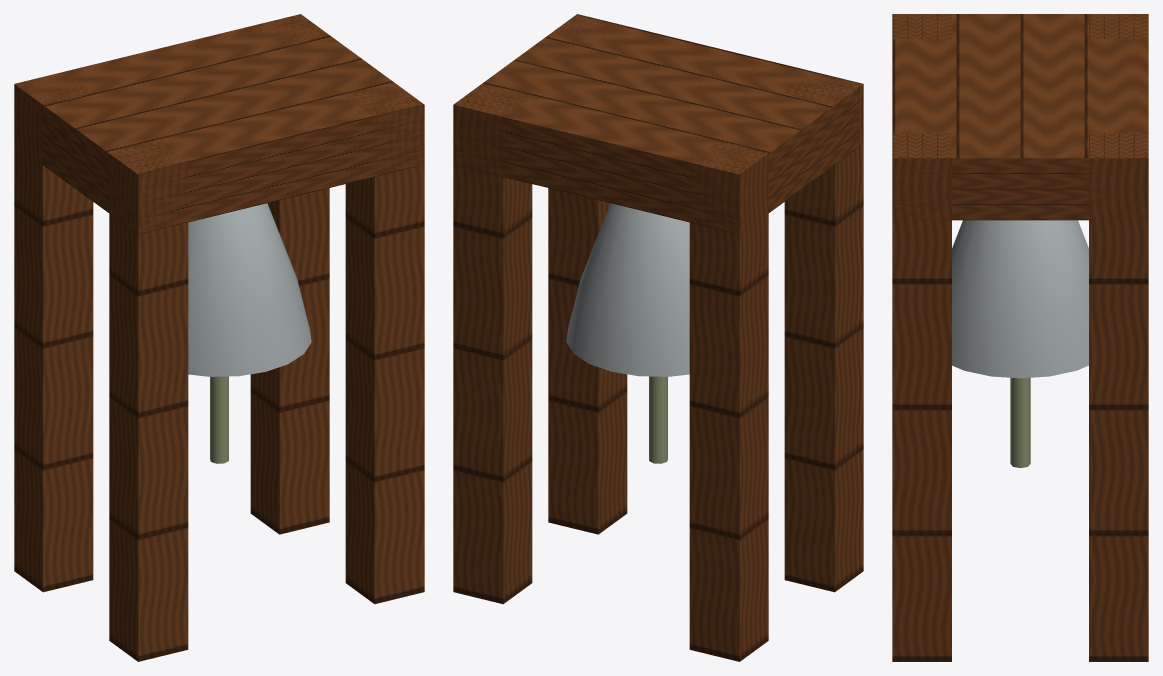
Rendered from bunker-shelter-construction-shelter-bell-8364f6fc__23372.glb.
3 renders of one model, left to right at view 1: azimuth 30°, elevation 25°; view 2: azimuth 150°, elevation 25°; view 3: azimuth 270°, elevation 25°, orthographic. The views are drawn at different scales.
Parts seen in each view (by area): view 1: shelter-bell; view 2: shelter-bell; view 3: shelter-bell.
Part boxes in pixels (bbox=[...]): shelter-bell: bbox=[14, 14, 424, 661]; shelter-bell: bbox=[453, 14, 863, 661]; shelter-bell: bbox=[892, 14, 1148, 661].
Size of the model in its own units: 0.4 by 0.65 by 0.3.
3 materials, 1 textured.
